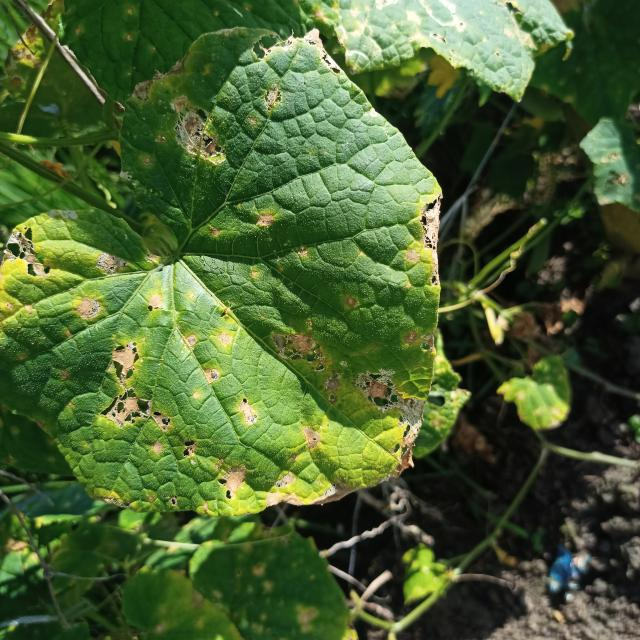disease_cucumber: (0, 31, 431, 502)
